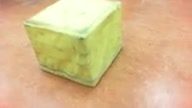cube: (23, 1, 121, 89)
